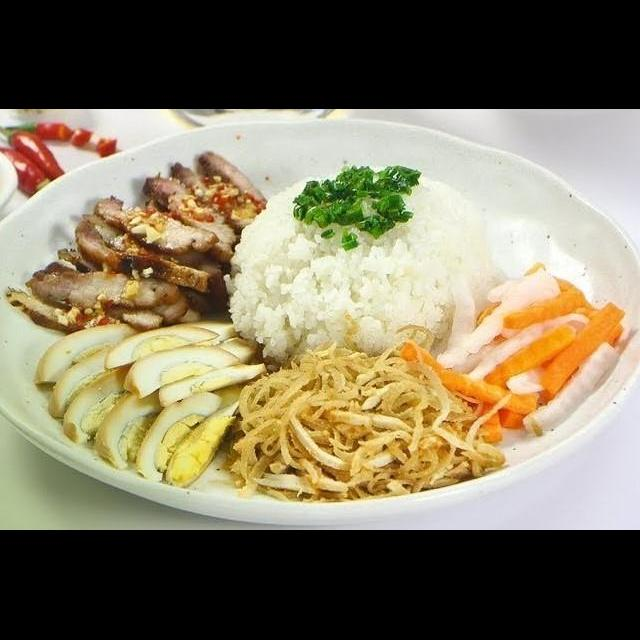bi: (224, 338, 506, 506)
com: (220, 164, 506, 368)
com suon bi trung: (11, 132, 640, 529)
dua chua: (432, 258, 626, 447)
suon: (2, 150, 268, 338)
trung: (31, 320, 270, 490)
